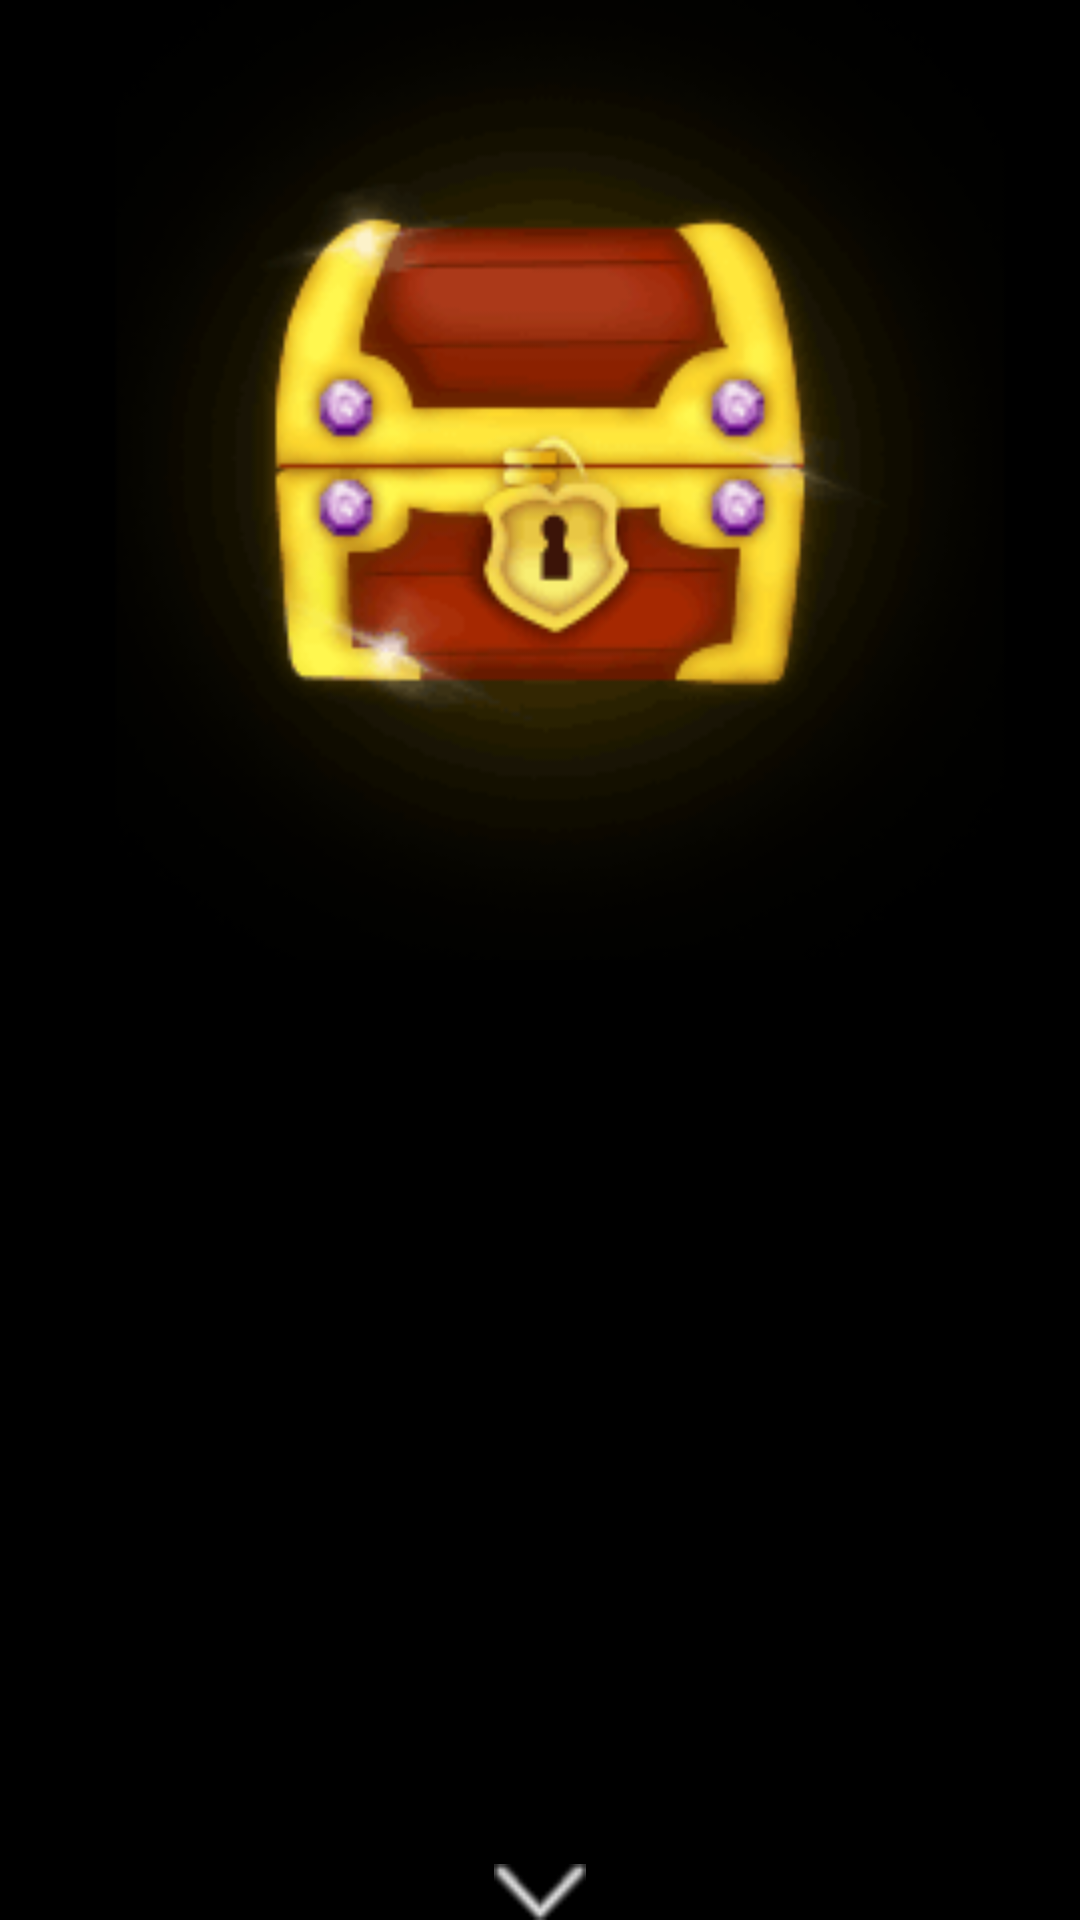

Where icons sit on this 1080w x 1920h app screen, as bbox(x1, y1, x2, y2):
next: bbox(494, 1864, 586, 1920)
